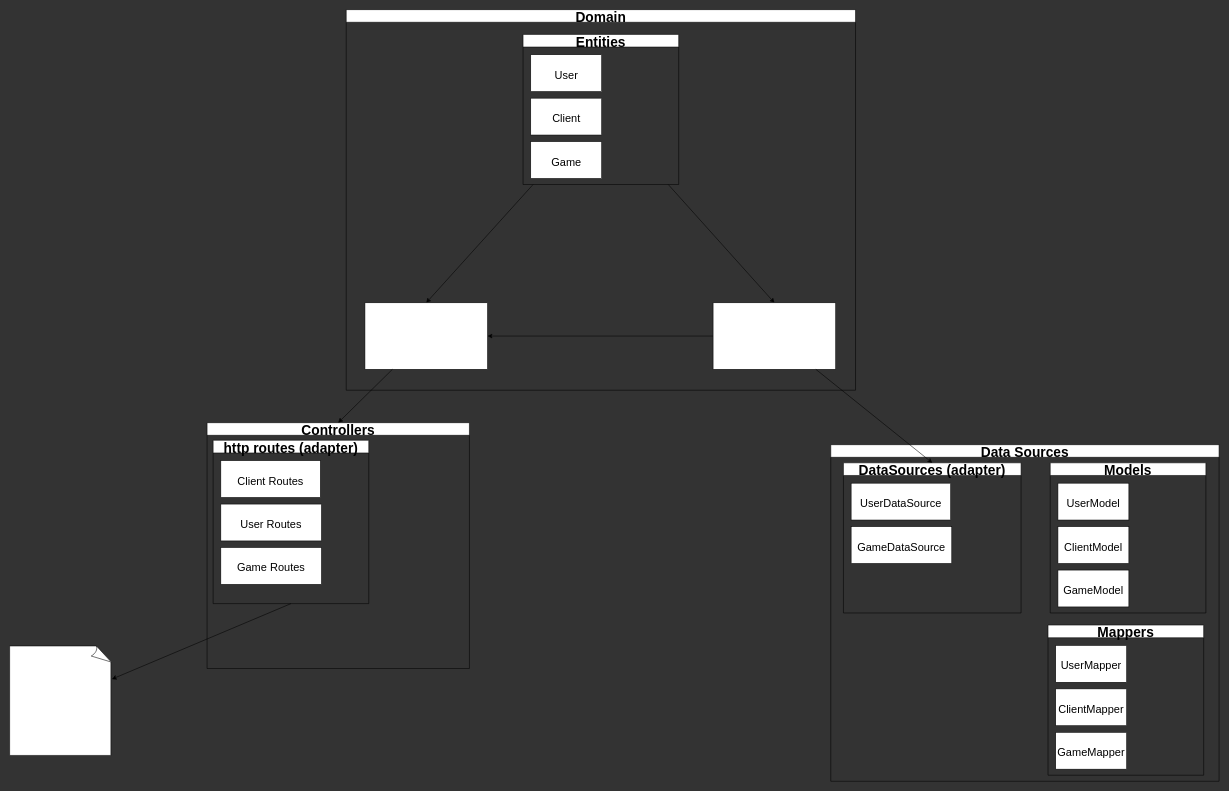
Some shapes in this 1229 by 791 pixel diagram are drawn without their labels. The centre of each missing label's shape, as x and y in pixels:
"index da aplicação (Arquivo que executa a API)" belongs at point 60,700.
"Repositories (Porta de saída)" belongs at point 774,335.
"Services (Porta de entrada)" belongs at point 426,335.
